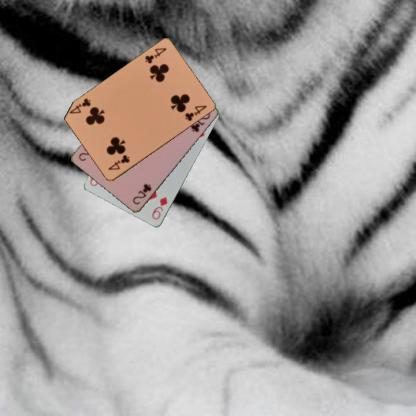2c: (130, 181, 153, 206)
4c: (105, 152, 131, 172), (142, 45, 168, 65)
9d: (149, 195, 169, 221)
